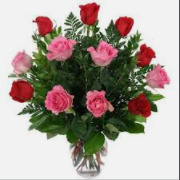RedRose: (78, 0, 100, 27), (9, 80, 32, 101), (136, 43, 154, 67), (115, 15, 133, 36)
